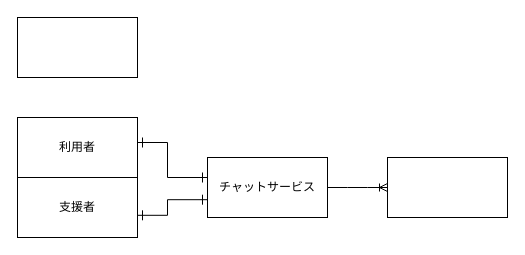
The diagram is 525 pixels wide and 255 high, and some of its shapes have lost their labels. Each missing label, with the centre of its shape:
"概念ER図" belongs at pixel 77 47.
"症状改善" belongs at pixel 447 187.
